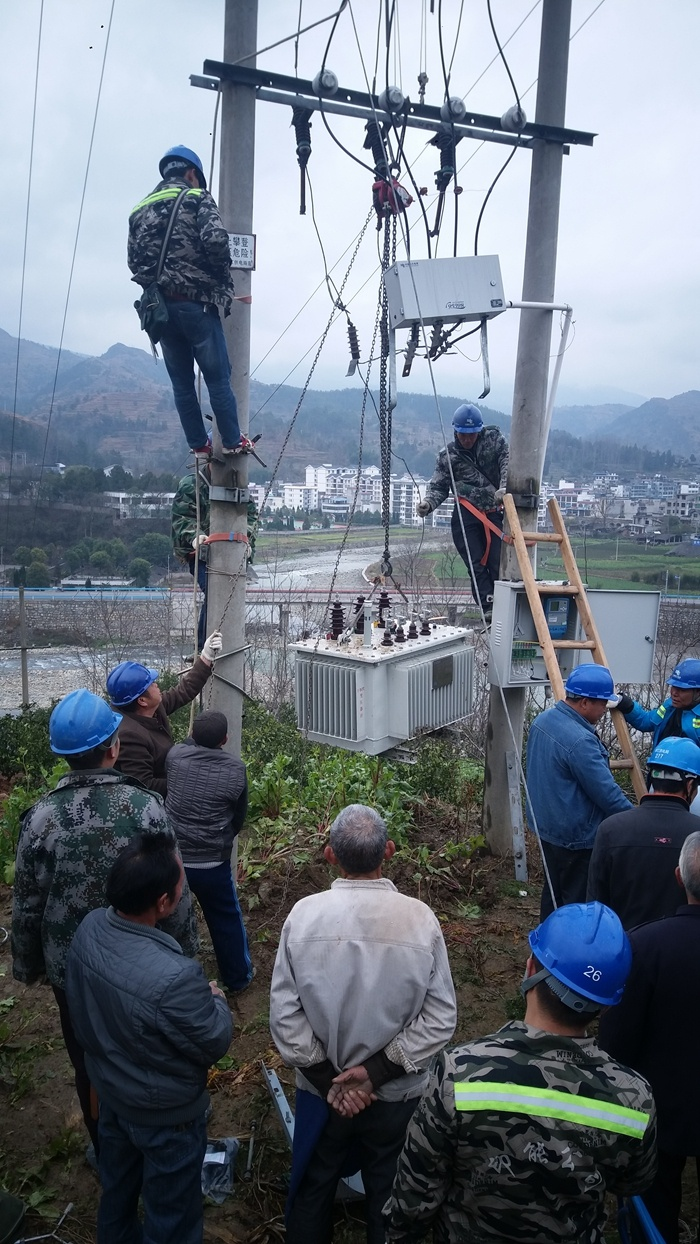blue: (522, 898, 635, 1026), (46, 686, 121, 767), (645, 738, 700, 801), (561, 662, 615, 720), (106, 660, 163, 714), (155, 143, 205, 191), (662, 656, 700, 715), (449, 400, 484, 450)
none: (106, 834, 188, 925), (327, 800, 391, 878), (188, 707, 230, 753)
